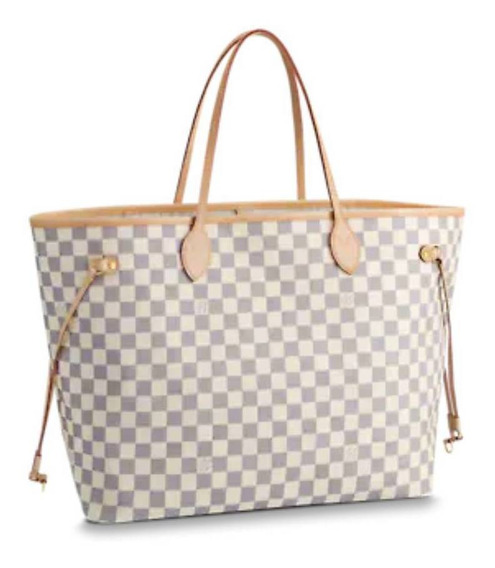cartera: (28, 28, 468, 527)
